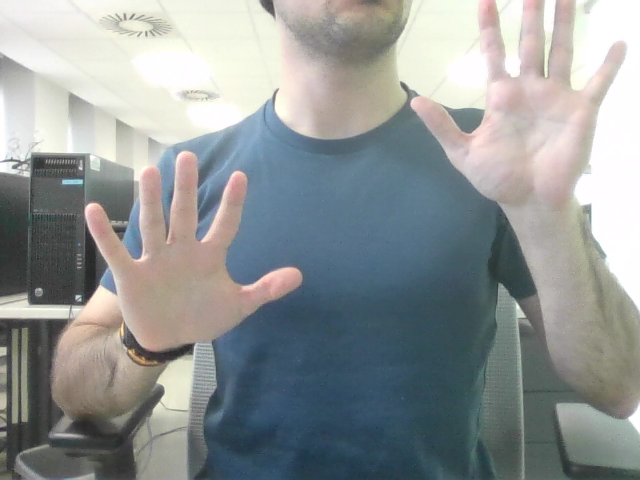Manos Arriba: (120, 6, 593, 308)
